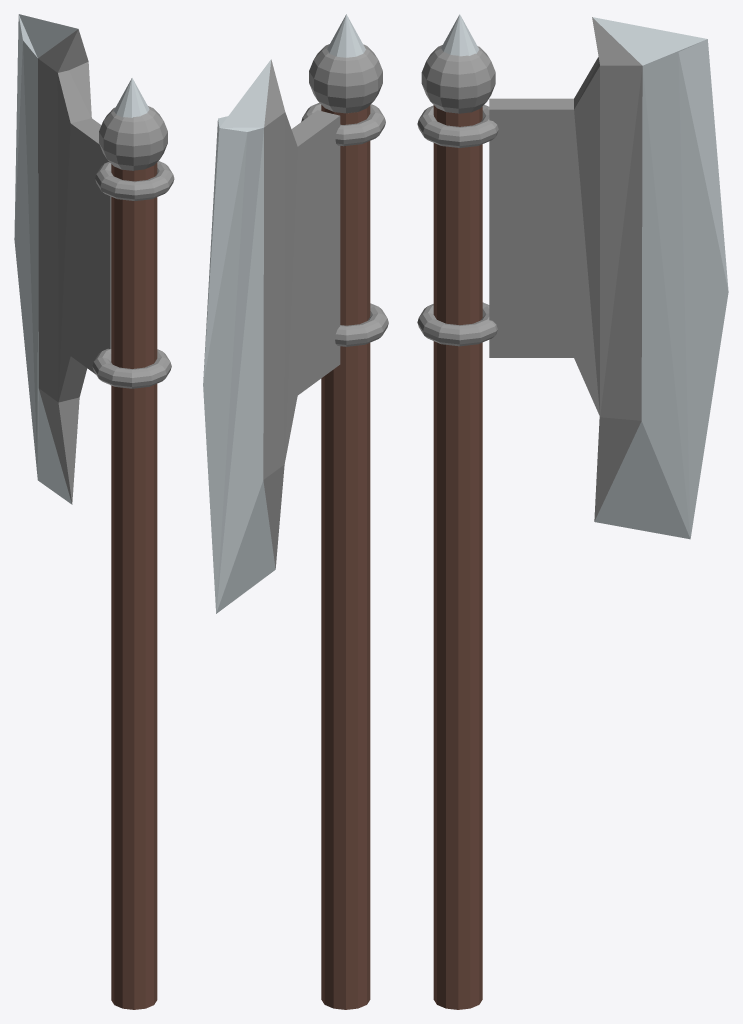
3 renders of one model, left to right at view 1: azimuth 30°, elevation 25°; view 2: azimuth 150°, elevation 25°; view 3: azimuth 270°, elevation 25°, orthographic. The views are drawn at different scales.
Parts seen in each view (by area): view 1: mesh_970275124, mesh_942004581, mesh_1816623196, mesh_139191107, mesh_463066369, mesh_1259787870; view 2: mesh_942004581, mesh_970275124, mesh_1816623196, mesh_463066369, mesh_139191107, mesh_1259787870; view 3: mesh_942004581, mesh_970275124, mesh_1816623196, mesh_463066369, mesh_139191107, mesh_1259787870.
Part boxes in pixels (x1=…): mesh_970275124: x1=111, y1=162, x2=157, y2=1009; mesh_942004581: x1=14, y1=14, x2=111, y2=504; mesh_1816623196: x1=99, y1=106, x2=167, y2=170; mesh_139191107: x1=92, y1=348, x2=171, y2=388; mesh_463066369: x1=95, y1=161, x2=174, y2=200; mesh_1259787870: x1=114, y1=78, x2=149, y2=117; mesh_942004581: x1=203, y1=59, x2=340, y2=613; mesh_970275124: x1=321, y1=105, x2=370, y2=1009; mesh_1816623196: x1=309, y1=44, x2=382, y2=113; mesh_463066369: x1=301, y1=102, x2=385, y2=146; mesh_139191107: x1=335, y1=303, x2=388, y2=346; mesh_1259787870: x1=327, y1=14, x2=365, y2=57; mesh_942004581: x1=489, y1=17, x2=728, y2=539; mesh_970275124: x1=433, y1=105, x2=482, y2=1009; mesh_1816623196: x1=421, y1=45, x2=495, y2=113; mesh_463066369: x1=417, y1=104, x2=498, y2=147; mesh_139191107: x1=417, y1=302, x2=497, y2=346; mesh_1259787870: x1=441, y1=14, x2=479, y2=56.
Size of the model in its own units: 27 by 333 by 95.36.
